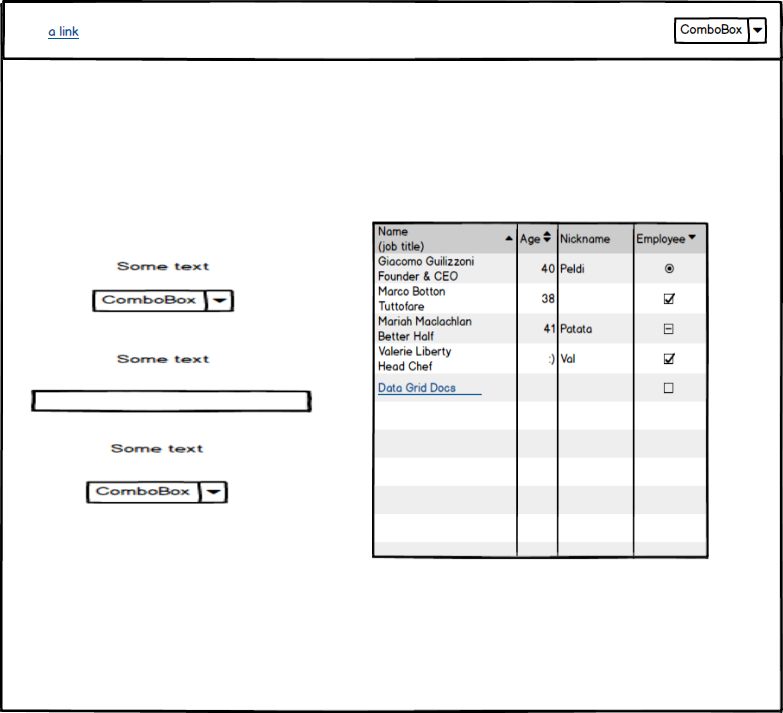input: (28, 384, 315, 417)
label: (111, 345, 215, 369), (110, 438, 209, 461), (111, 254, 212, 276)
navlink: (41, 23, 92, 43)
select_box: (87, 283, 239, 319), (81, 478, 230, 508), (671, 12, 771, 47)
table: (367, 213, 714, 561)
